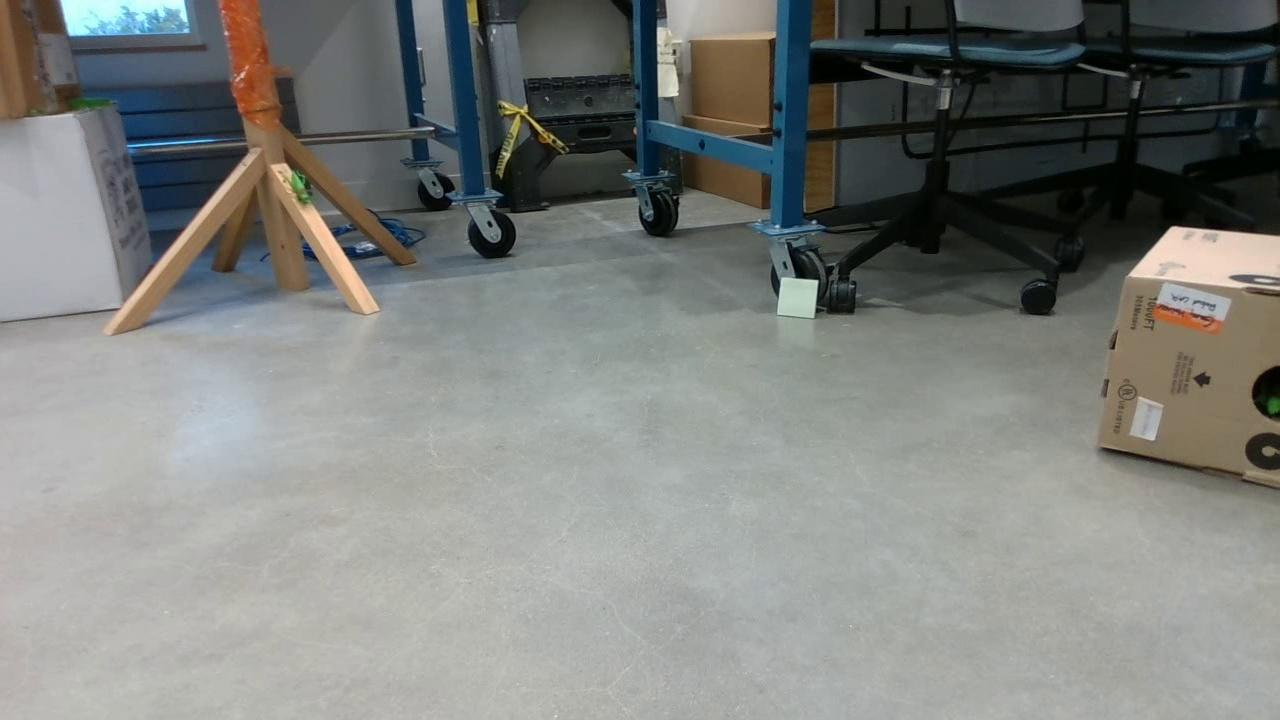grasshopper: (282, 169, 313, 204), (66, 97, 117, 110), (1257, 395, 1280, 420)
